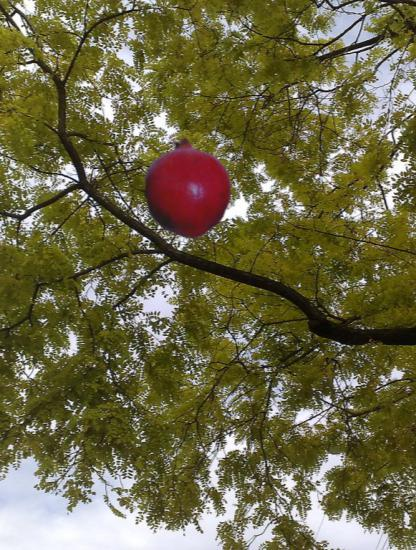Pomegranate: (136, 137, 240, 241)
